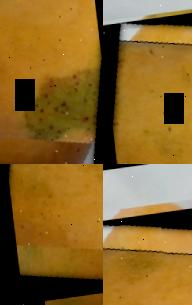Ripe: (0, 0, 103, 164), (103, 7, 192, 164), (0, 164, 103, 297), (103, 208, 192, 305)
